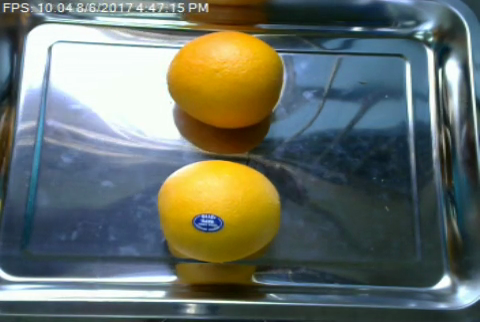Orange: (156, 158, 280, 265), (166, 31, 284, 127)
